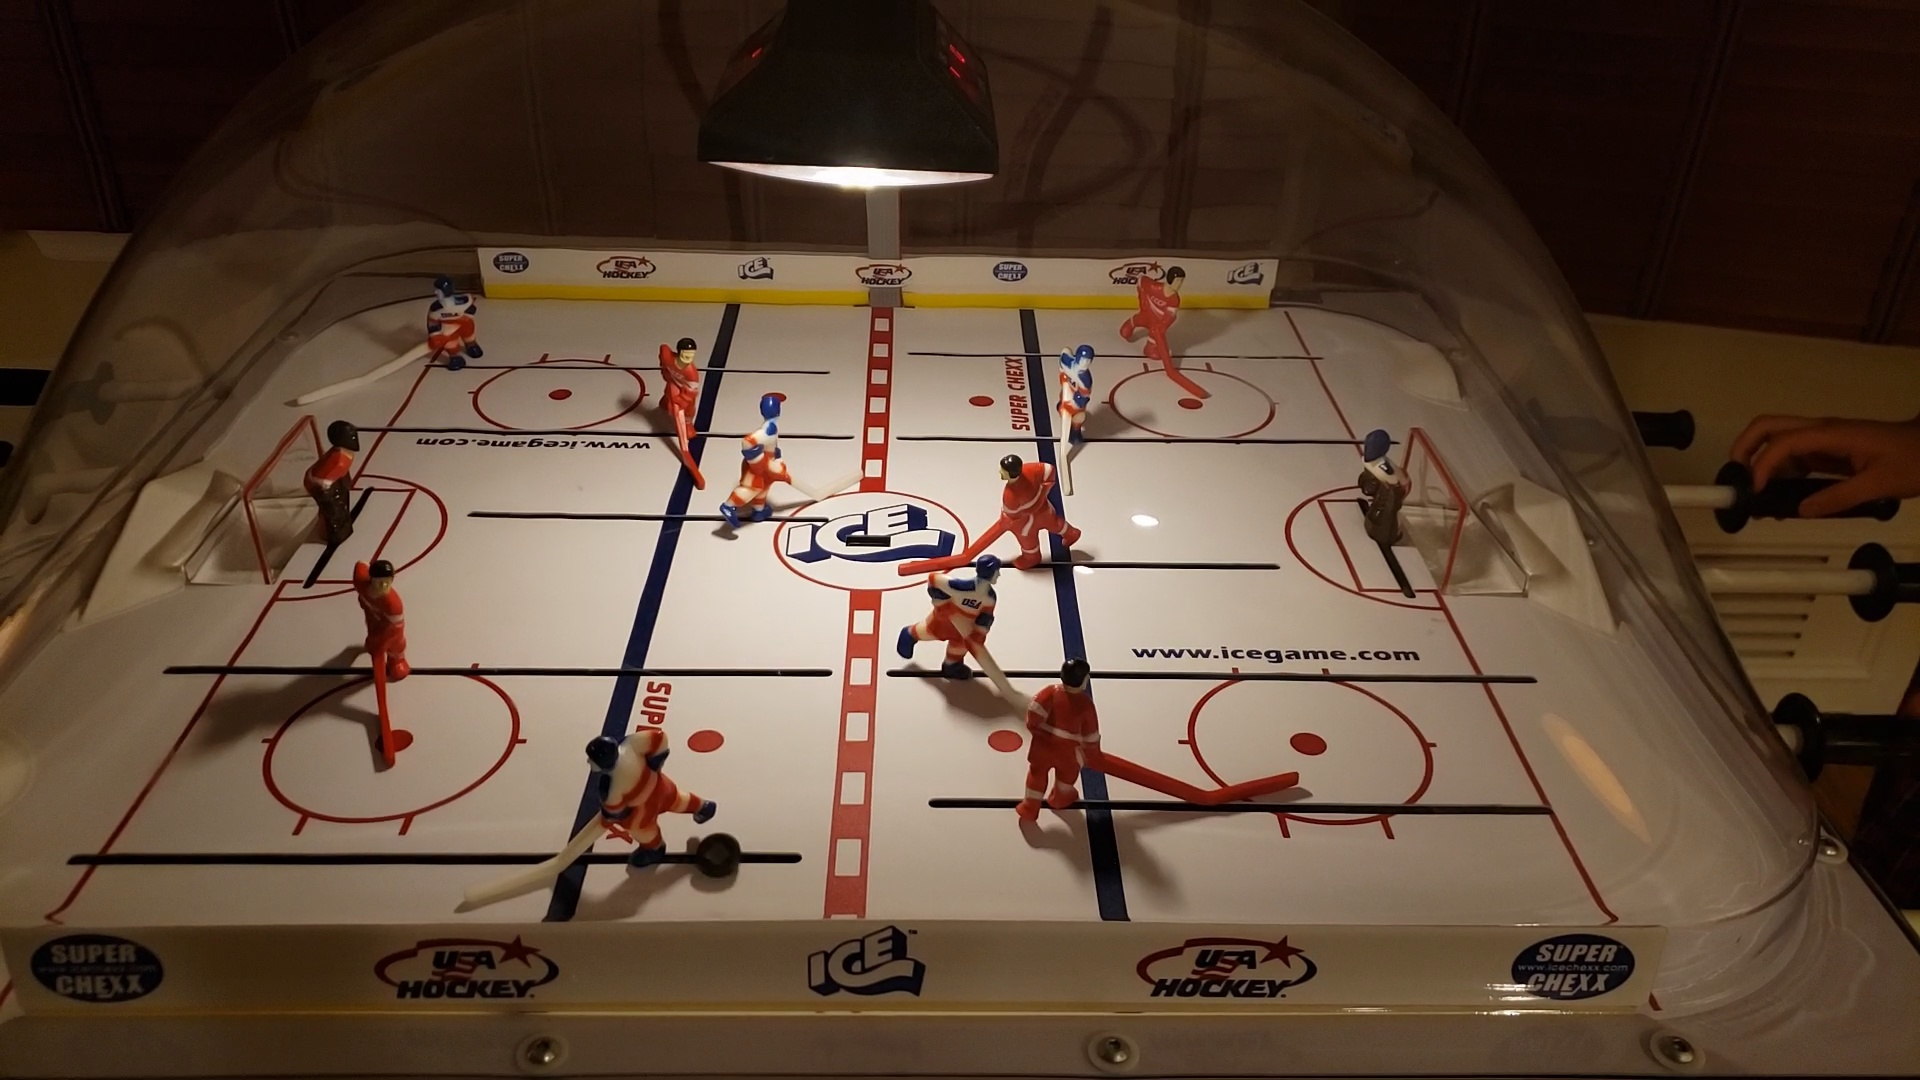puck: (695, 831, 742, 878)
